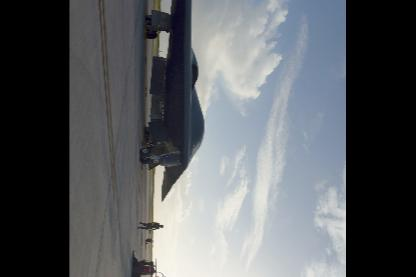B1: (140, 0, 206, 202)
